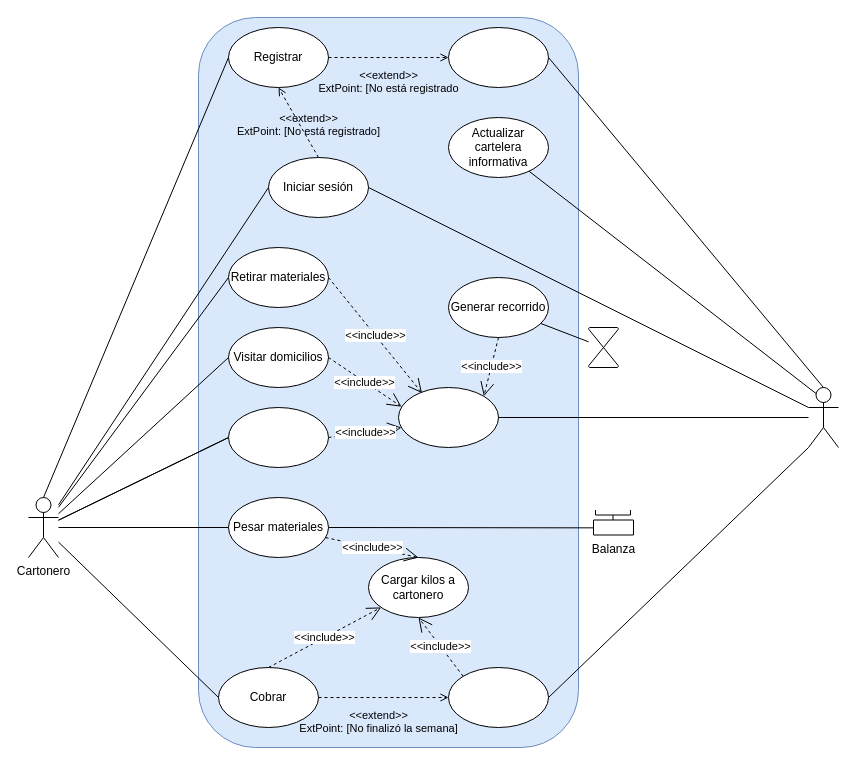
The diagram is 868 pixels wide and 765 high, and some of its shapes have lost their labels. Each missing label, with the centre of its shape:
Acceder recorrido: point 448,417
Aceptar registros: point 498,57
Calcular comisiones: point 498,697
Finalizar recorrido: point 278,437
Reloj [8:00hs en días hábiles]: point 603,347
Secretaria: point 823,417
